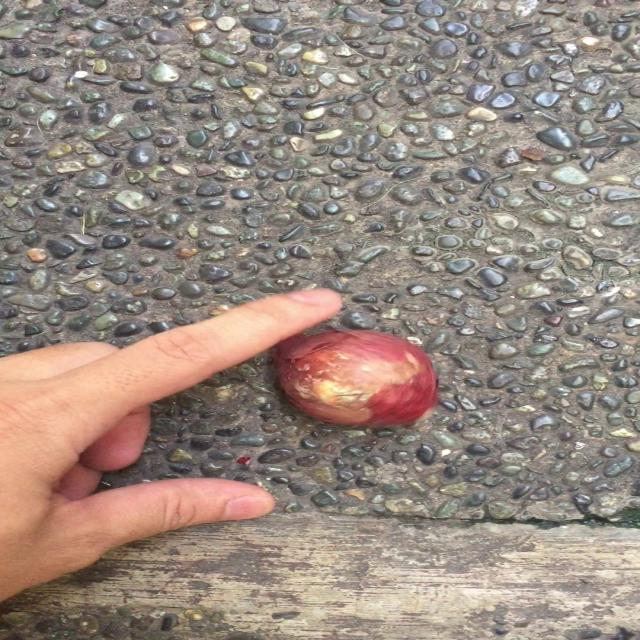Onion: (273, 331, 437, 426)
